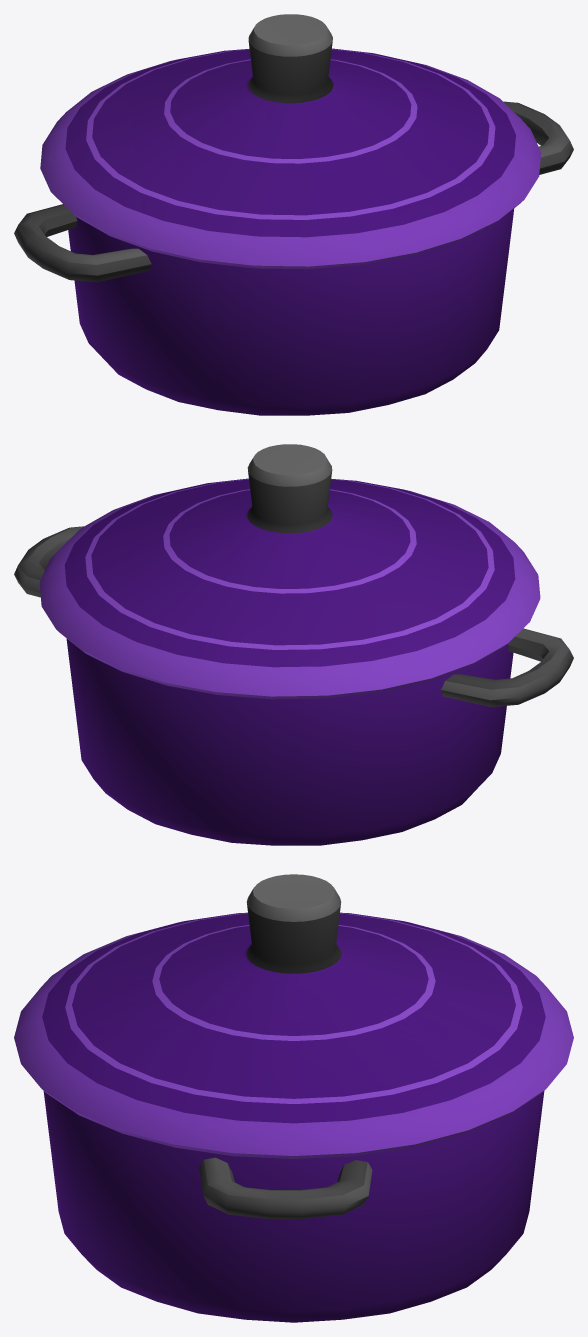
The model's file is Pan_3.fbx.
The picture shows the model from 3 angles, top to bottom: view 1: azimuth 30°, elevation 25°; view 2: azimuth 150°, elevation 25°; view 3: azimuth 270°, elevation 25°; orthographic projection. The views are drawn at different scales.
Parts seen in each view (by area): view 1: Pan_3 Top, Pan_3; view 2: Pan_3 Top, Pan_3; view 3: Pan_3 Top, Pan_3.
Part boxes in pixels (x1,y1,x2,y2): Pan_3 Top: (40,14,541,269); Pan_3: (14,101,573,415); Pan_3 Top: (39,444,540,699); Pan_3: (14,526,573,845); Pan_3 Top: (14,874,573,1158); Pan_3: (43,1091,544,1322).
Size of the model in its own units: 0.3038 by 0.1681 by 0.2526.
Materials: 1 (1 with a texture image).
